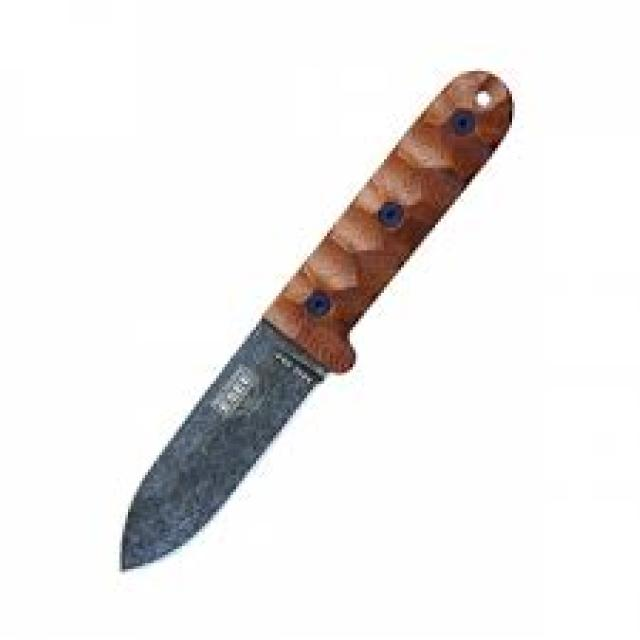knife: (106, 67, 523, 593)
